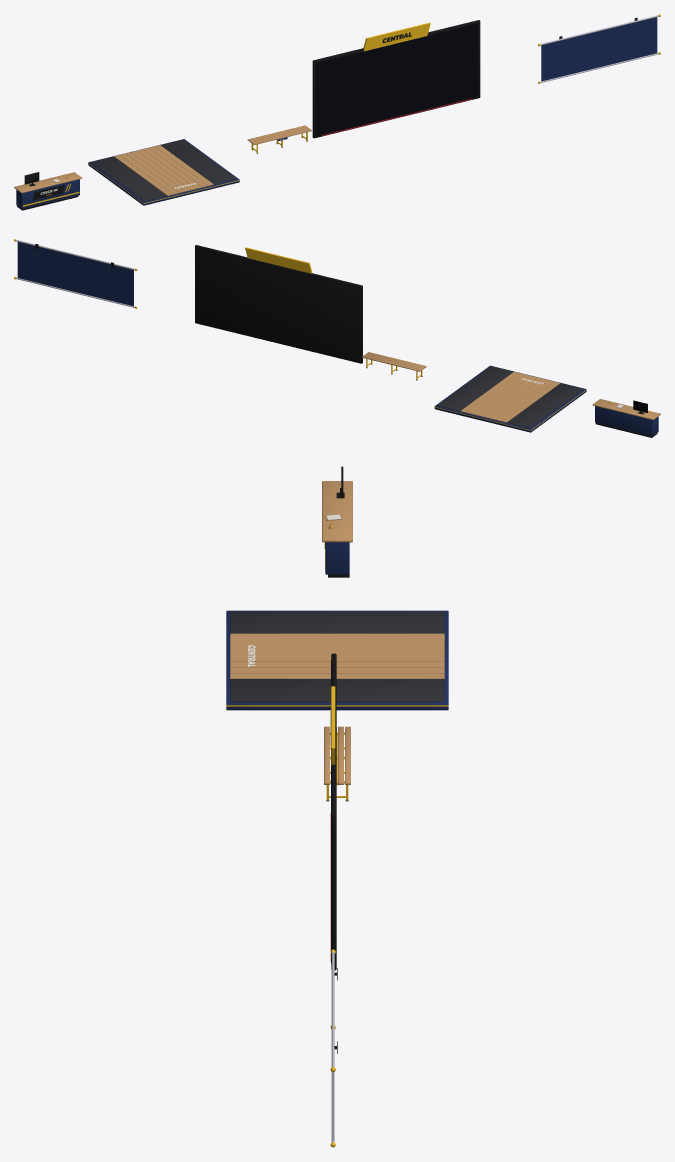
Rendered from MockMeet_01.glb.
3 renders of one model, top to bottom at view 1: azimuth 30°, elevation 25°; view 2: azimuth 150°, elevation 25°; view 3: azimuth 270°, elevation 25°, orthographic. The views are drawn at different scales.
Visible parts, largest first — view 1: MeetBoard_Screen, MeetBanner_Cloth, MeetPlatform_Rubber, MeetPlatform_Wood, MeetBoard_Frame, MeetPlatform_Base, MeetBoard_Header, MeetDesk_Body, MeetDesk_Top, MeetBanner_Rails, MeetBench_Slats; view 2: MeetBoard_Frame, MeetBanner_Cloth, MeetPlatform_Rubber, MeetPlatform_Wood, MeetDesk_Body, MeetPlatform_Base, MeetBoard_Header, MeetBanner_Rails, MeetDesk_Top, MeetBench_Slats; view 3: MeetPlatform_Rubber, MeetPlatform_Wood, MeetPlatform_Base, MeetDesk_Top, MeetBoard_Frame, MeetBench_Slats.
Boxes of the visible parts, x1,y1,x2,y2 form: MeetBoard_Screen: (316, 23, 478, 135); MeetBanner_Cloth: (541, 17, 657, 81); MeetPlatform_Rubber: (91, 139, 236, 201); MeetPlatform_Wood: (114, 145, 213, 195); MeetBoard_Frame: (312, 20, 480, 138); MeetPlatform_Base: (88, 139, 239, 205); MeetBoard_Header: (363, 22, 430, 51); MeetDesk_Body: (16, 179, 79, 209); MeetDesk_Top: (14, 172, 82, 193); MeetBanner_Rails: (540, 15, 658, 82); MeetBench_Slats: (247, 125, 311, 144); MeetBoard_Frame: (195, 245, 362, 363); MeetBanner_Cloth: (17, 242, 133, 306); MeetPlatform_Rubber: (437, 366, 583, 428); MeetPlatform_Wood: (460, 371, 560, 422); MeetDesk_Body: (595, 406, 658, 436); MeetPlatform_Base: (434, 365, 586, 432); MeetBoard_Header: (245, 247, 312, 273); MeetBanner_Rails: (16, 240, 134, 307); MeetDesk_Top: (592, 399, 660, 419); MeetBench_Slats: (362, 352, 426, 371); MeetPlatform_Rubber: (230, 611, 444, 702); MeetPlatform_Wood: (230, 633, 444, 678); MeetPlatform_Base: (226, 610, 448, 710); MeetDesk_Top: (322, 481, 352, 542); MeetBoard_Frame: (331, 653, 336, 970); MeetBench_Slats: (324, 726, 350, 784).
Bounding box in the file's own units: 111 × 14.43 × 16.64.
